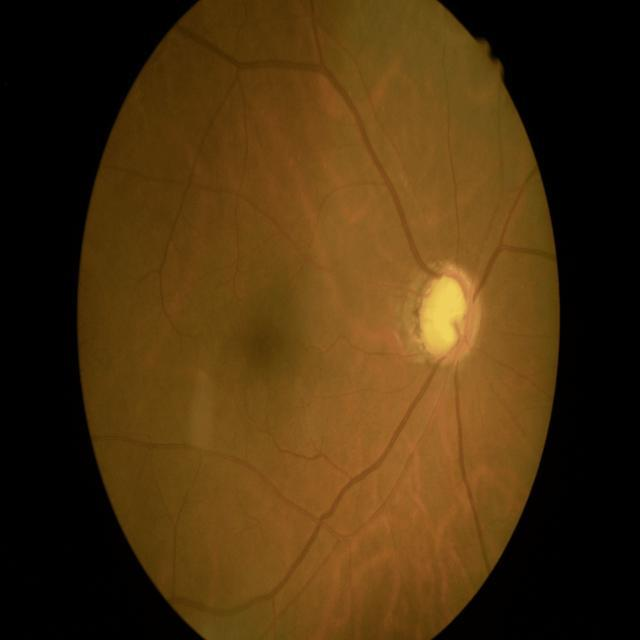cup: (431, 275, 472, 353)
disk: (417, 262, 482, 363)
